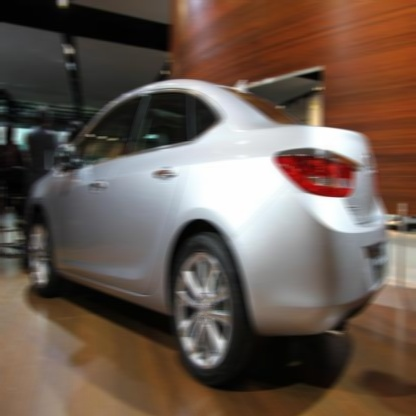Vehicle: (24, 75, 389, 387)
